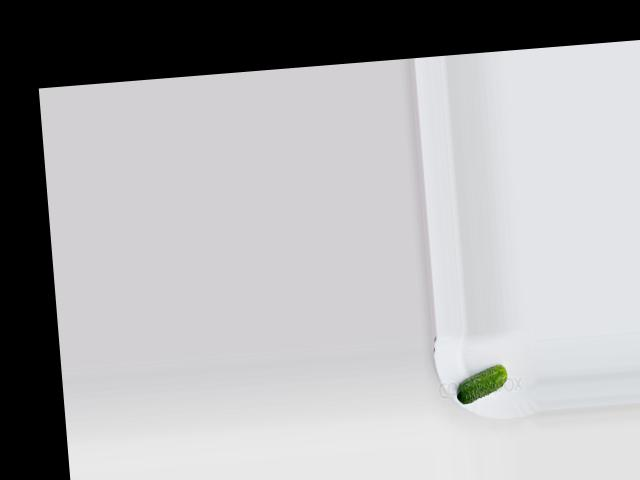cucumber: (455, 363, 509, 404)
